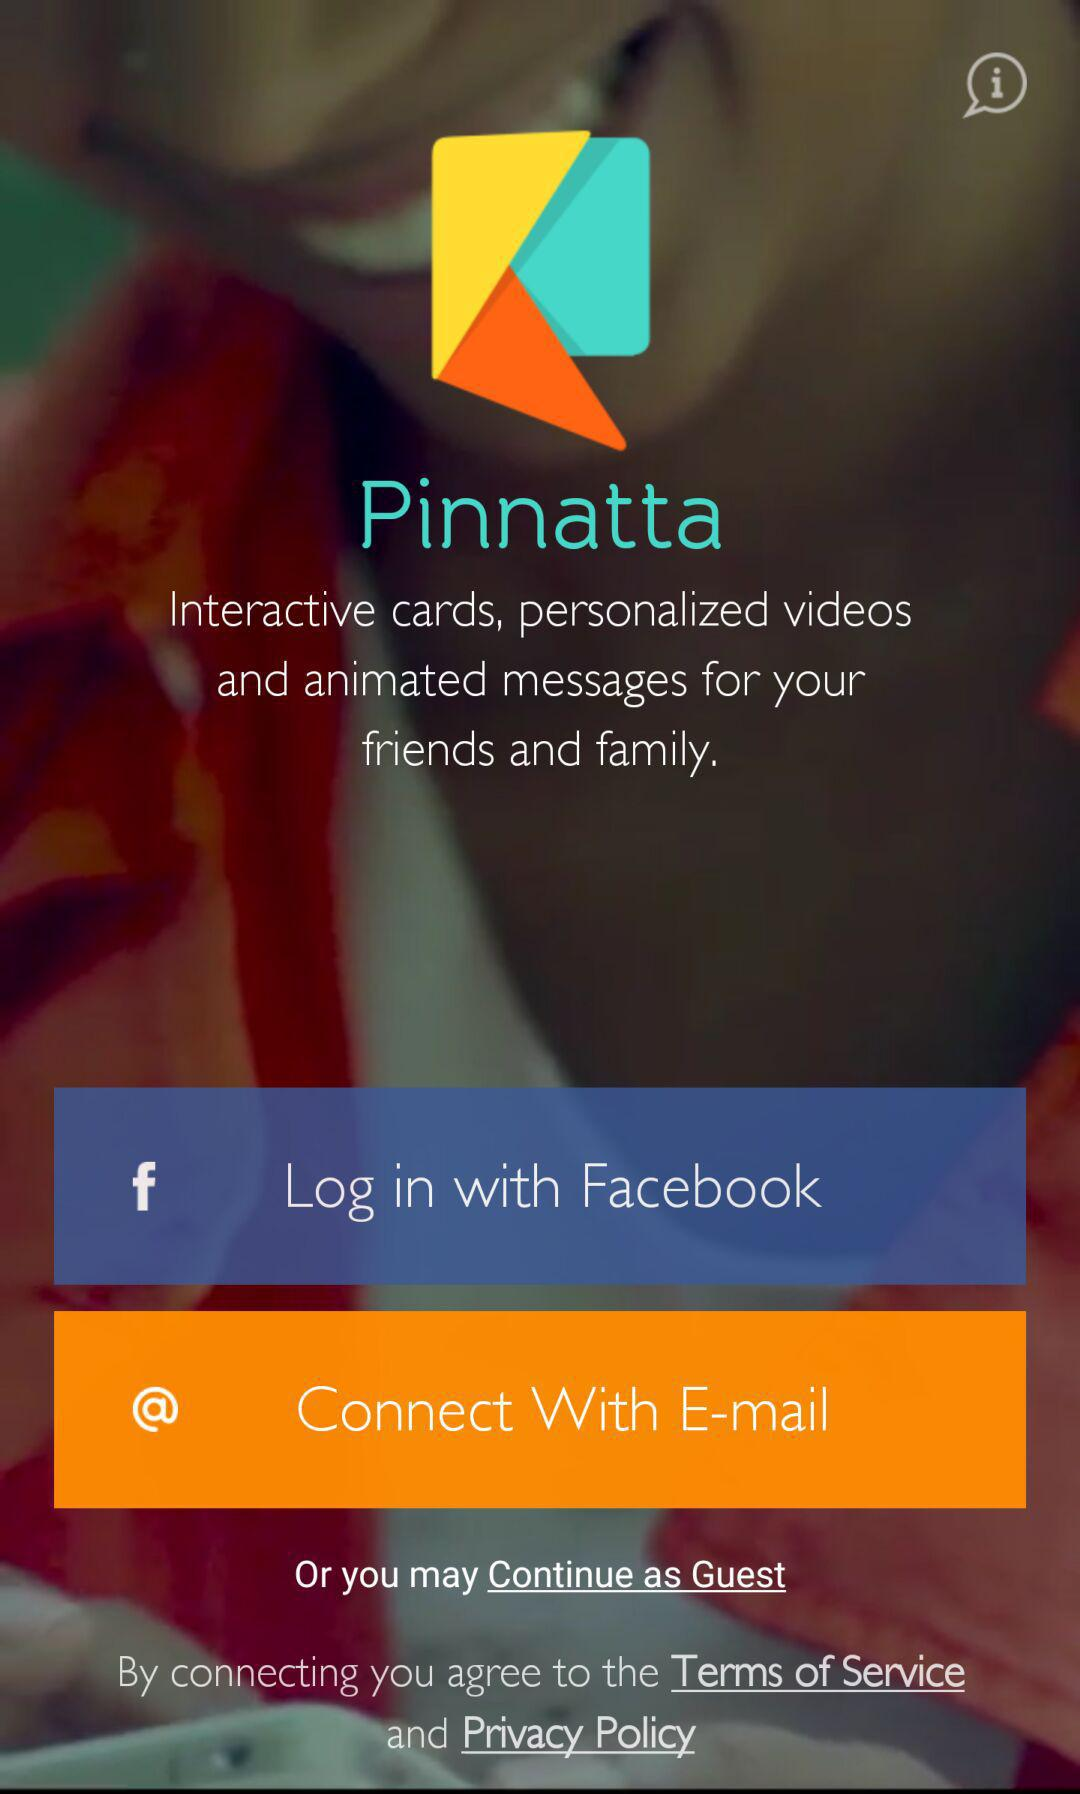BackgroundImage: (1, 3, 1080, 1794)
Icon: (961, 53, 1027, 120)
Image: (430, 131, 651, 454)
Text: (172, 589, 912, 779), (120, 1653, 966, 1759), (363, 478, 723, 551), (295, 1559, 787, 1597)
TextButton: (54, 1311, 1027, 1510), (55, 1088, 1027, 1287)
